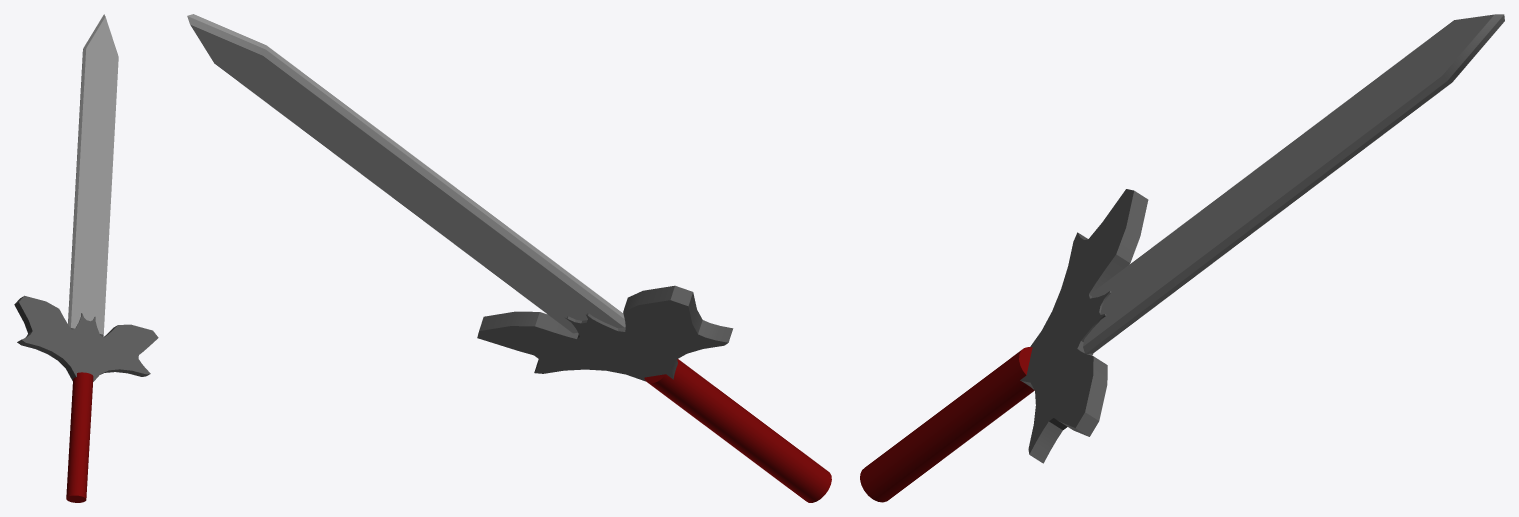
Rendered from BatSword.fbx.
The picture shows the model from 3 angles, left to right: view 1: azimuth 30°, elevation 25°; view 2: azimuth 150°, elevation 25°; view 3: azimuth 270°, elevation 25°; orthographic projection. The views are drawn at different scales.
Parts seen in each view (by area): view 1: Blade, BatHilt, Handle; view 2: Blade, BatHilt, Handle; view 3: Blade, BatHilt, Handle.
Boxes of the visible parts, x1=… form: Blade: x1=68, y1=14, x2=118, y2=336; BatHilt: x1=14, y1=295, x2=158, y2=381; Handle: x1=66, y1=372, x2=93, y2=502; Blade: x1=187, y1=14, x2=625, y2=333; BatHilt: x1=477, y1=285, x2=733, y2=381; Handle: x1=644, y1=359, x2=831, y2=502; Blade: x1=1083, y1=14, x2=1504, y2=353; BatHilt: x1=1020, y1=189, x2=1148, y2=463; Handle: x1=860, y1=347, x2=1034, y2=502.
Bounding box in the file's own units: 114 × 188 × 165.
